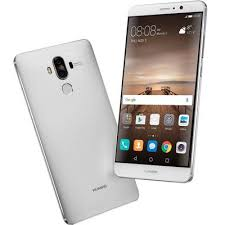huawei: (112, 1, 208, 188)
